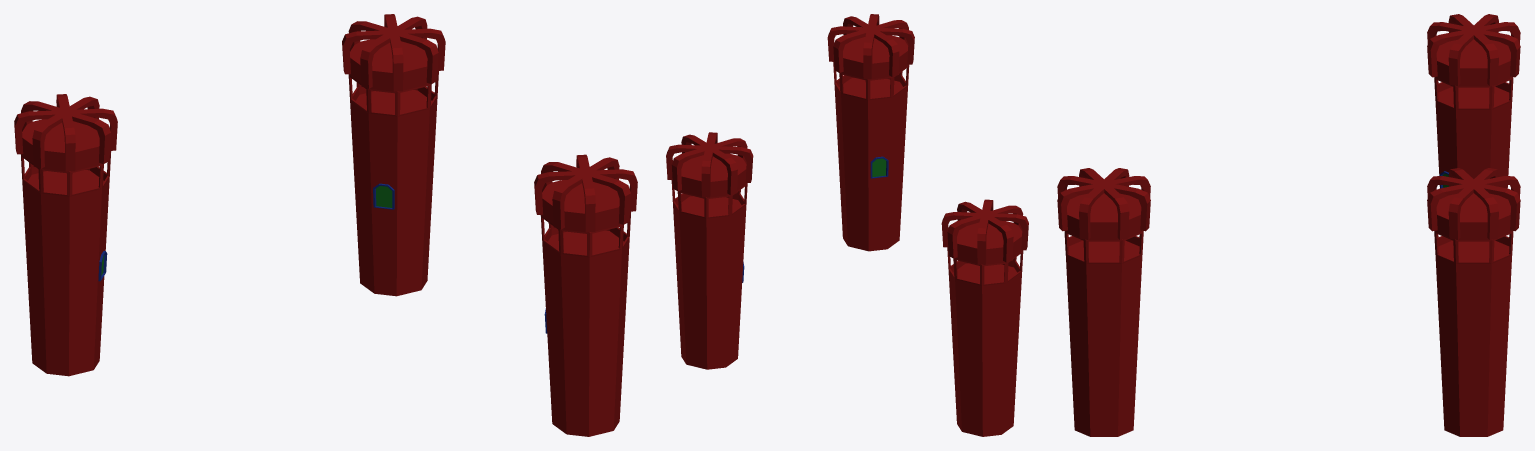
Rendered from SM_Turret 2.fbx.
3 renders of one model, left to right at view 1: azimuth 30°, elevation 25°; view 2: azimuth 150°, elevation 25°; view 3: azimuth 270°, elevation 25°, orthographic. The views are drawn at different scales.
Parts seen in each view (by area): view 1: SM_Turret; view 2: SM_Turret; view 3: SM_Turret.
Boxes of the visible parts, bbox=[...] form: SM_Turret: bbox=[14, 14, 637, 436]; SM_Turret: bbox=[666, 14, 1028, 436]; SM_Turret: bbox=[1057, 14, 1520, 436].
Size of the model in its own units: 178 by 103 by 180.
